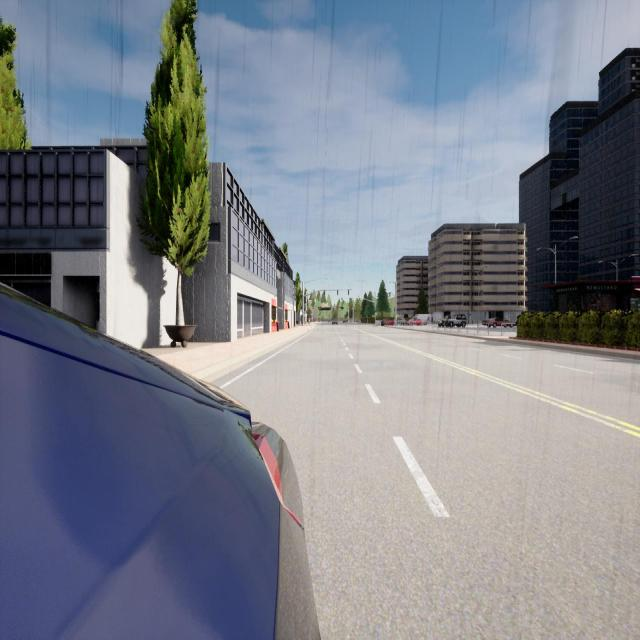Vehicle: (0, 282, 318, 640), (482, 317, 516, 327), (448, 314, 467, 328), (411, 315, 433, 326), (438, 316, 449, 328), (407, 318, 422, 326), (381, 318, 394, 326), (396, 317, 406, 326), (332, 318, 338, 325)
traffic_light: (394, 308, 396, 312), (337, 290, 338, 295), (348, 290, 349, 295), (351, 298, 352, 302), (359, 298, 360, 302), (375, 310, 376, 314), (324, 290, 325, 294), (390, 293, 390, 297), (342, 298, 342, 302)
